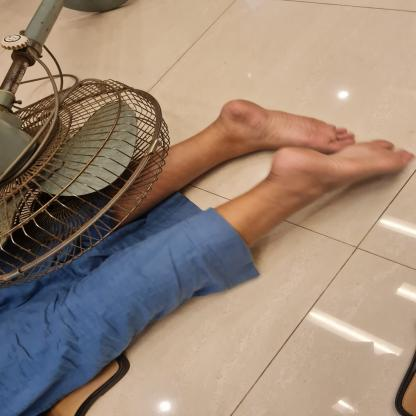leg: (105, 86, 373, 224), (216, 130, 416, 251)
